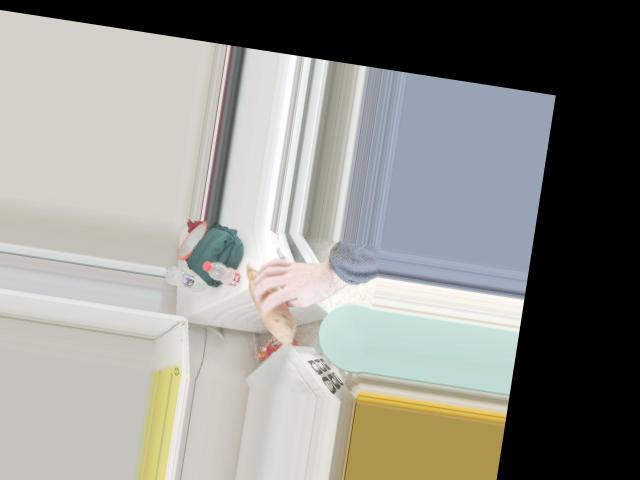sweet_potato: (238, 258, 303, 339)
